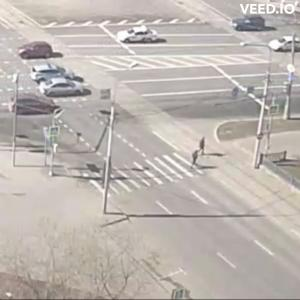car: (6, 92, 64, 119), (41, 76, 87, 99), (17, 42, 61, 62), (31, 62, 66, 87), (119, 28, 165, 45), (234, 17, 268, 34), (270, 35, 300, 54)
